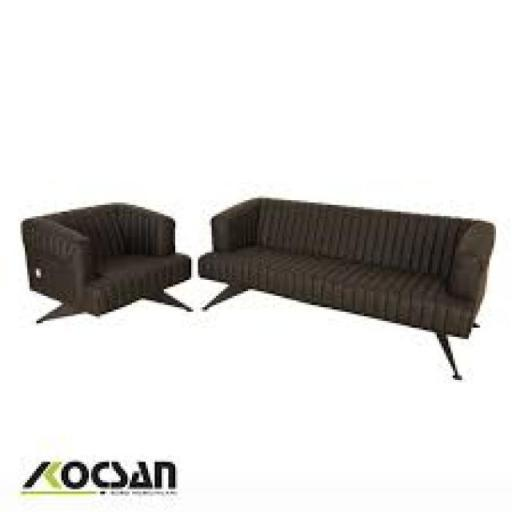sofa: (204, 156, 507, 386), (30, 174, 188, 377)
